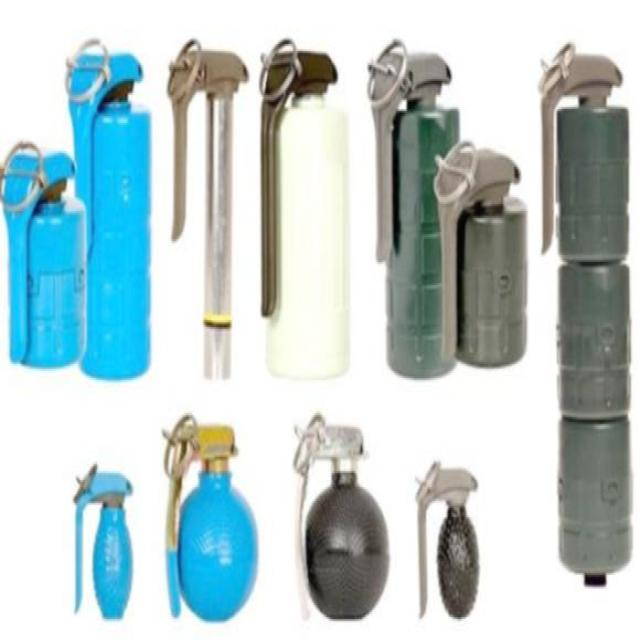grenade: (538, 45, 635, 586), (369, 38, 462, 384), (68, 35, 155, 385), (164, 413, 264, 625), (438, 140, 530, 368), (293, 416, 391, 623), (2, 147, 89, 374), (418, 464, 483, 626), (75, 464, 133, 622)
